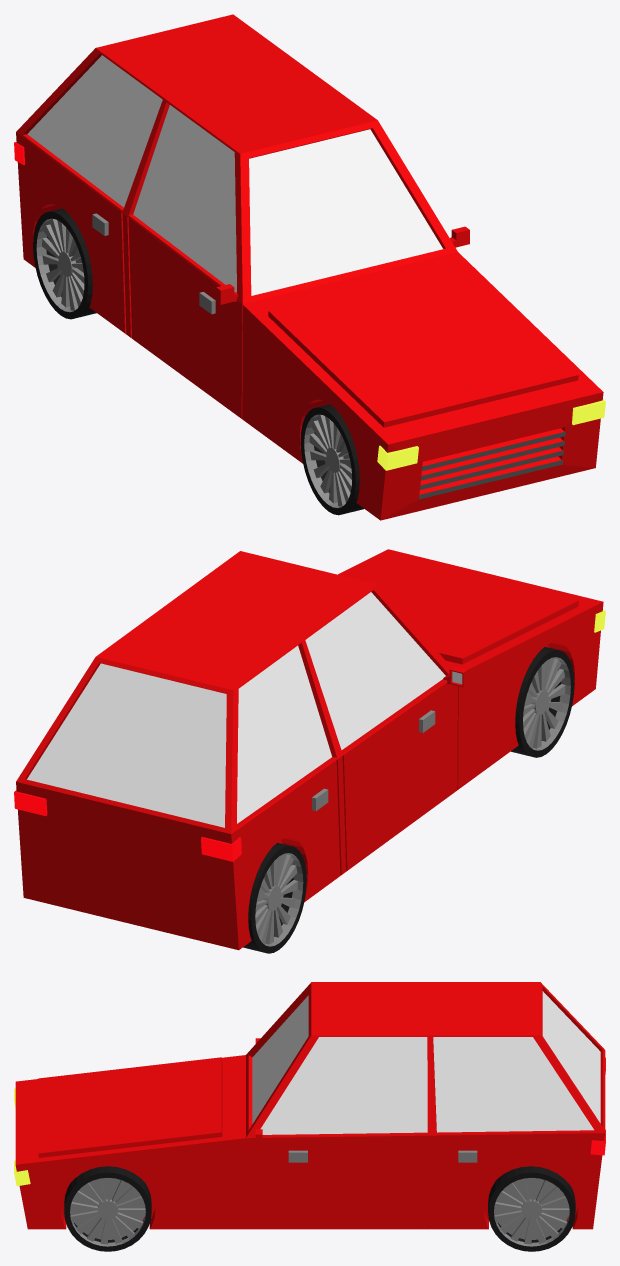
Rendered from car.glb.
The picture shows the model from 3 angles, top to bottom: view 1: azimuth 30°, elevation 25°; view 2: azimuth 150°, elevation 25°; view 3: azimuth 270°, elevation 25°; orthographic projection. The views are drawn at different scales.
Parts seen in each view (by area): view 1: car body_0, tyre_1, headlight_2, side mirror_5; view 2: car body_0, tyre_1, back light_3, handle_4; view 3: car body_0, tyre_1, handle_4.
Boxes of the visible parts, bbox=[...] form: car body_0: bbox=[16, 14, 603, 520]; tyre_1: bbox=[33, 208, 363, 515]; headlight_2: bbox=[377, 399, 605, 470]; side mirror_5: bbox=[216, 226, 469, 304]; car body_0: bbox=[16, 549, 603, 950]; tyre_1: bbox=[243, 647, 574, 953]; back light_3: bbox=[14, 790, 241, 861]; handle_4: bbox=[312, 710, 435, 811]; car body_0: bbox=[15, 982, 605, 1229]; tyre_1: bbox=[64, 1166, 575, 1251]; handle_4: bbox=[288, 1150, 477, 1162].
Bounding box in the file's own units: 2.31 × 2.25 × 6.01.
